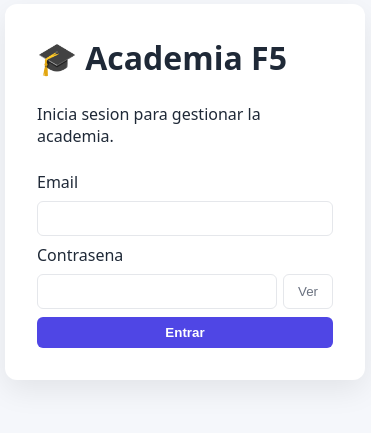
Test: Login › muestra un mensaje de error cuando el login falla
Type "malo@academiaf5.dev" into the field labelled "Email". click: [185, 218]
box: [37,201,333,236]
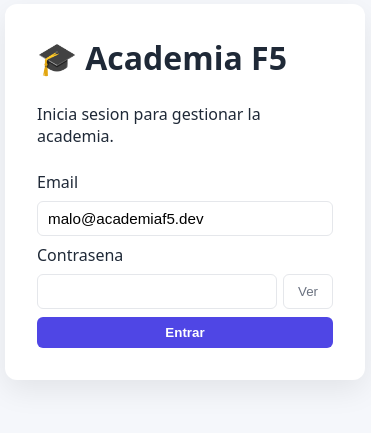
Type "incorrecta" into the password field labelled "Contrasena". click: [157, 292]
box: [37,274,277,309]
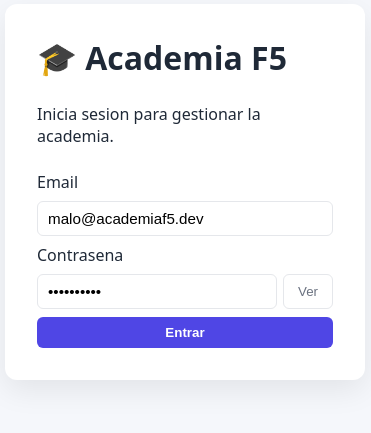
Click the button "Entrar". click: [185, 332]
box: [37,317,333,348]
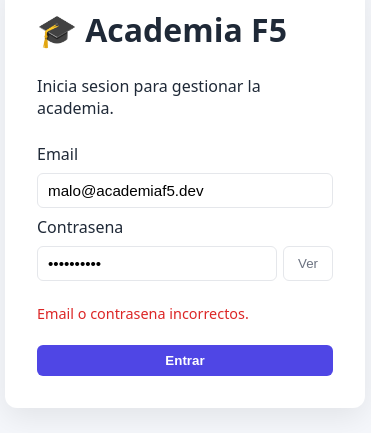
Result: the text "Email o contrasena incorrectos." is shown at [37,304,249,322]
